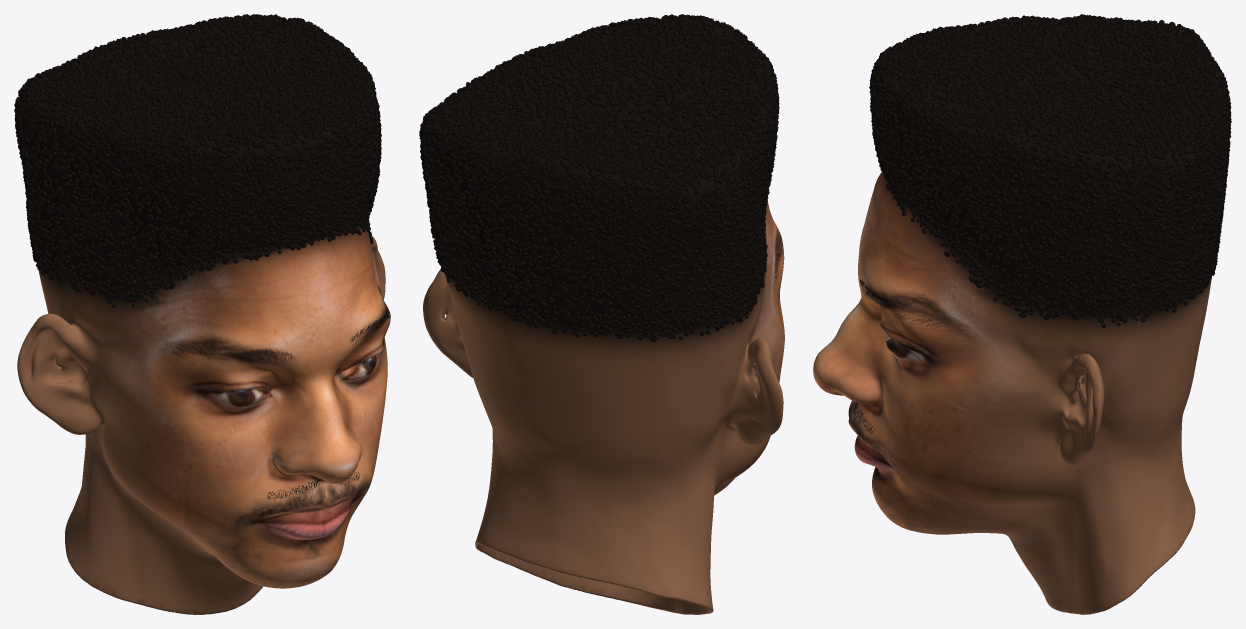
Rendered from will-head-detailed.glb.
3 views of the same model, side by side, from view 1: azimuth 30°, elevation 25°; view 2: azimuth 150°, elevation 25°; view 3: azimuth 270°, elevation 25° (orthographic). The views are drawn at different scales.
Visible parts, largest first — view 1: Will_HeadSkin, Will_TexturedCurlClusters, Will_CurlLoops, Will_FineFacialHair; view 2: Will_HeadSkin, Will_TexturedCurlClusters, Will_CurlLoops; view 3: Will_HeadSkin, Will_TexturedCurlClusters, Will_CurlLoops.
Boxes of the visible parts, x1,y1,x2,y2 form: Will_HeadSkin: (17, 18, 390, 614); Will_TexturedCurlClusters: (14, 14, 381, 307); Will_CurlLoops: (15, 14, 380, 301); Will_FineFacialHair: (169, 309, 390, 499); Will_HeadSkin: (423, 17, 784, 614); Will_TexturedCurlClusters: (419, 14, 779, 341); Will_CurlLoops: (423, 15, 778, 331); Will_HeadSkin: (813, 18, 1224, 614); Will_TexturedCurlClusters: (869, 14, 1231, 327); Will_CurlLoops: (871, 17, 1231, 301).
Bounding box in the file's own units: 0.2419 × 0.3389 × 0.2392.
Materials: 4 (1 with a texture image).
